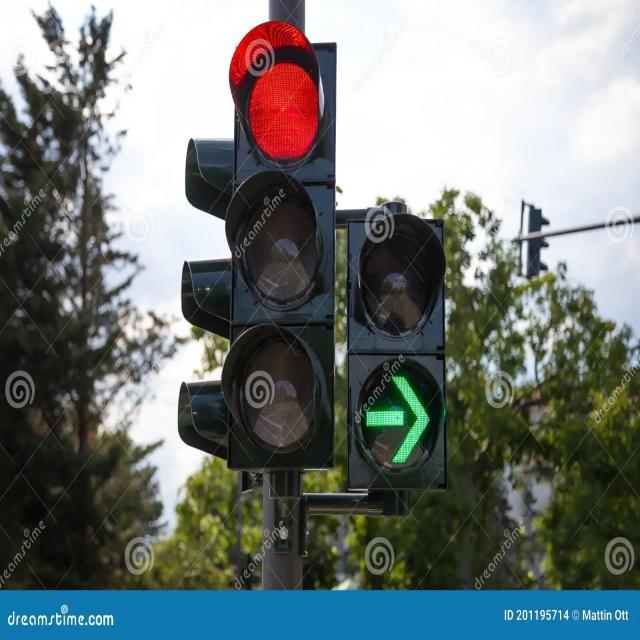red: (234, 58, 318, 165)
